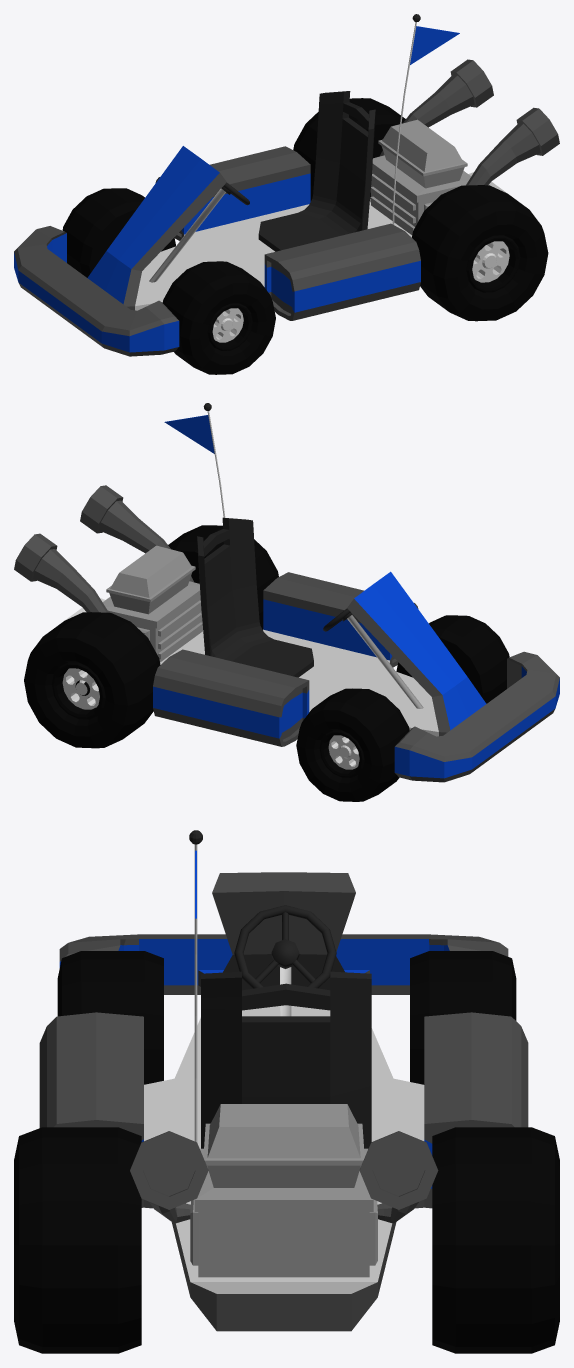
File: Kart5.fbx
3 views of the same model, one above another, from view 1: azimuth 30°, elevation 25°; view 2: azimuth 150°, elevation 25°; view 3: azimuth 270°, elevation 25° (orthographic). The views are drawn at different scales.
Visible parts, largest first — view 1: Default.Kart.002, Default.Kart.001, Default.Kart.000; view 2: Default.Kart.002, Default.Kart.001, Default.Kart.000; view 3: Default.Kart.002, Default.Kart.001, Default.Kart.000.
Part boxes in pixels (box(x1,y1,x2,y2)): Default.Kart.002: box(14, 14, 559, 356); Default.Kart.001: box(293, 98, 548, 321); Default.Kart.000: box(62, 188, 275, 374); Default.Kart.002: box(14, 403, 559, 782); Default.Kart.001: box(24, 525, 278, 748); Default.Kart.000: box(296, 615, 509, 801); Default.Kart.002: box(39, 830, 528, 1331); Default.Kart.001: box(14, 1127, 559, 1353); Default.Kart.000: box(57, 951, 516, 1084).
Bounding box in the file's own units: 318 × 185 × 187.
